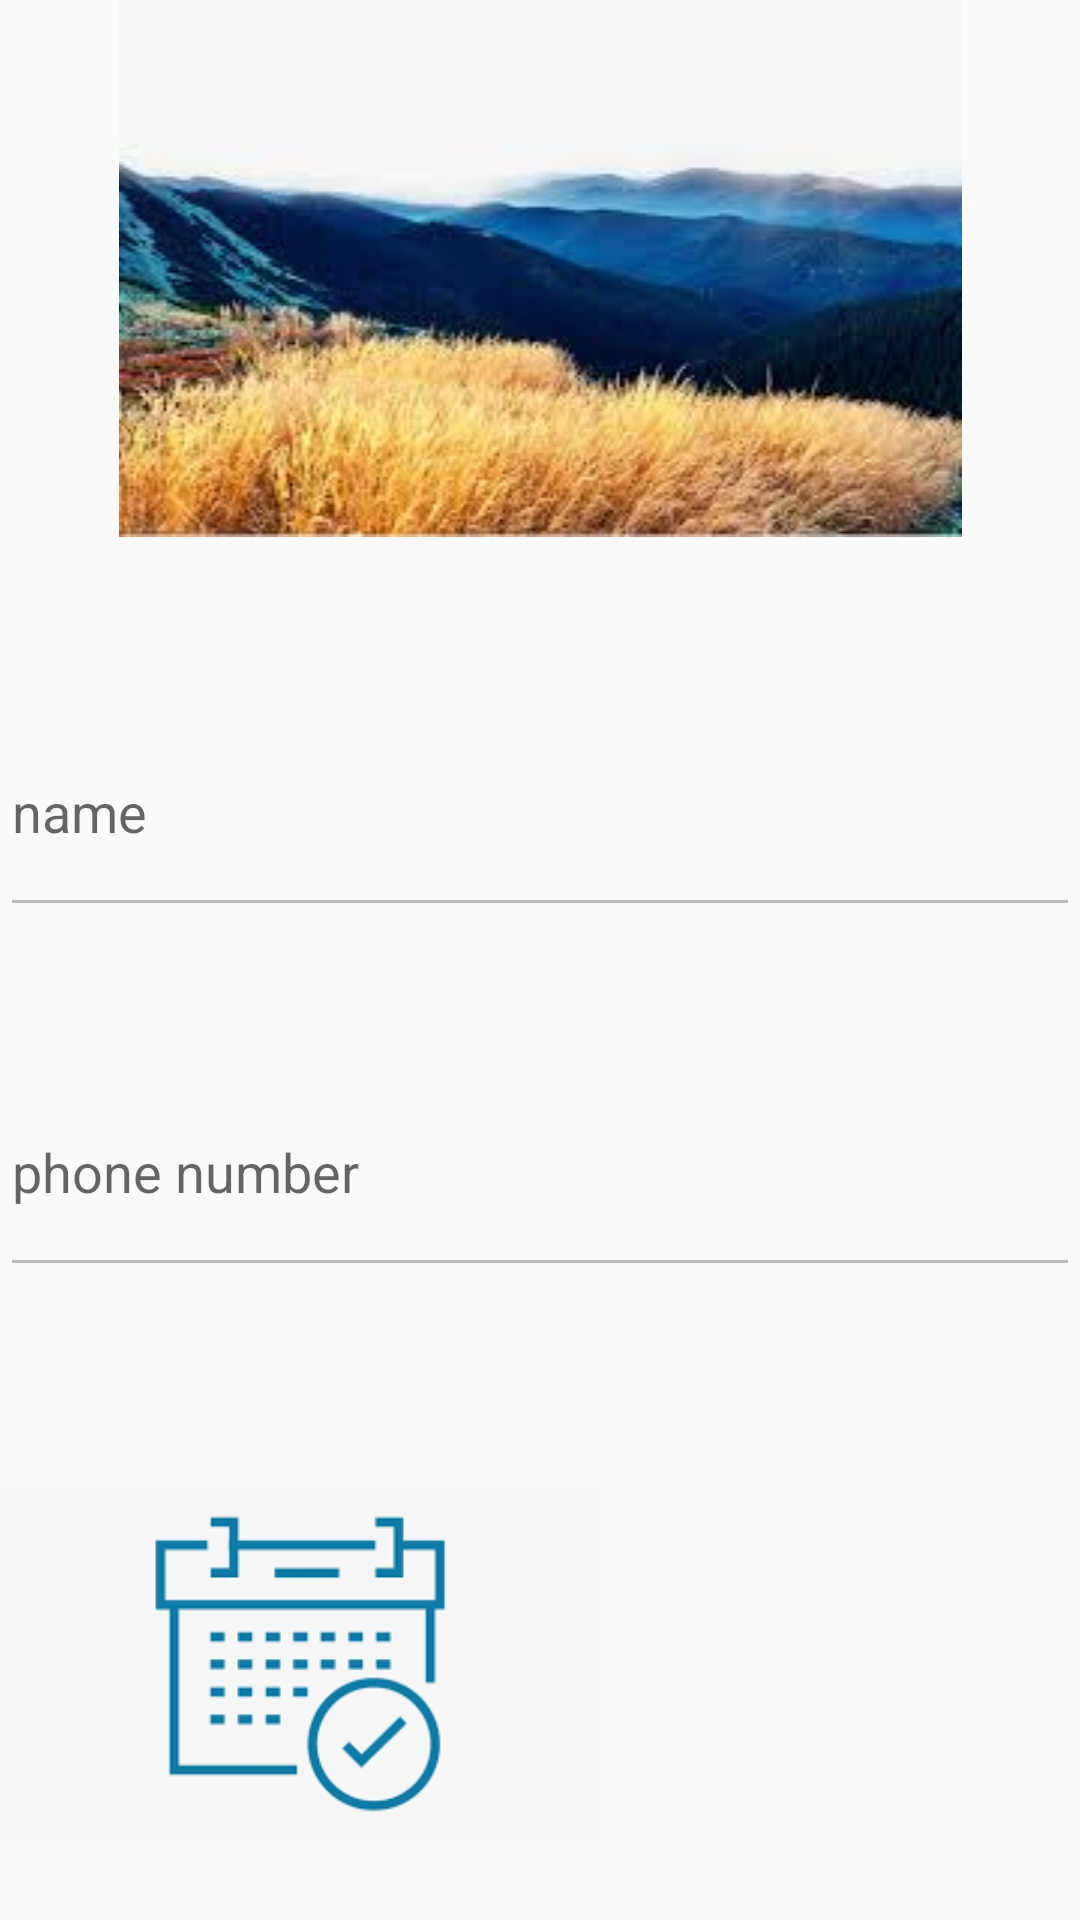

Locate icon controls on the screen. Image size 1080x1920, boxes as [x1=x1, y1=y1, x2=x2, y2=y2].
calendar: [x1=155, y1=1516, x2=446, y2=1812]
